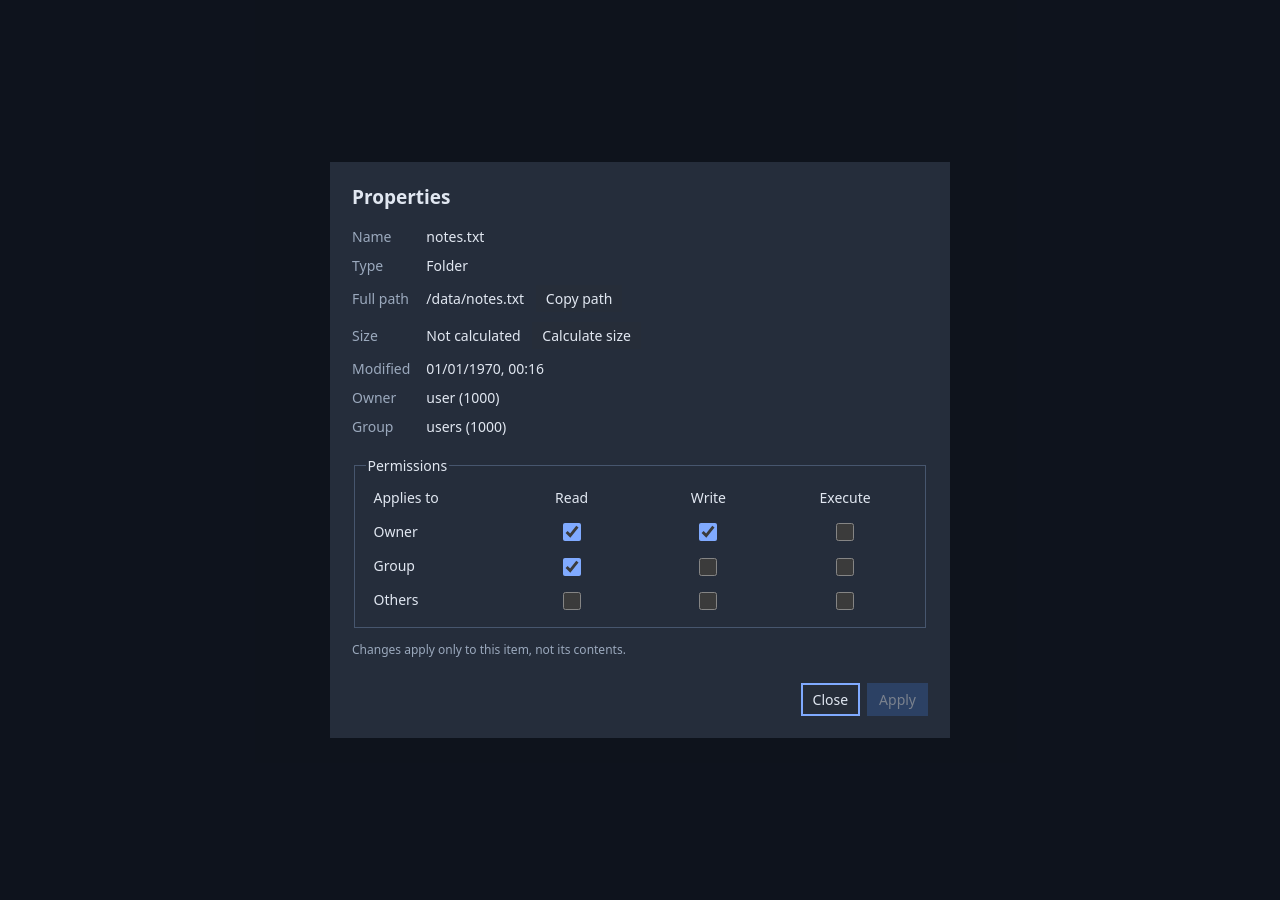
it: reports size errors without showing a partial result
Click the button "Calculate size". click: x=587, y=336
box: [532, 322, 641, 349]
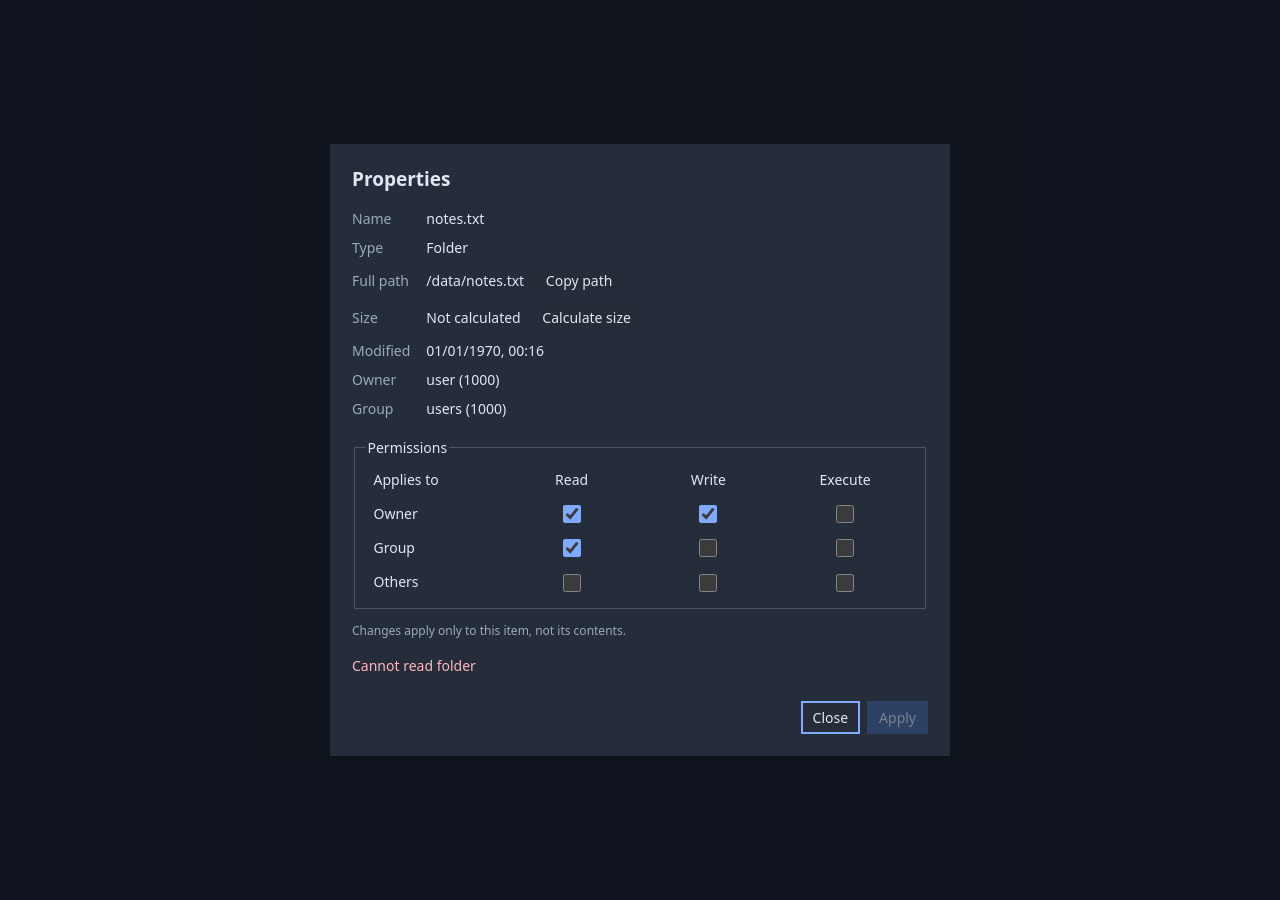
Expected: the text "Not calculated" is shown, [426, 308, 524, 327]
Now the message "Cannot read folder" is shown, box [352, 656, 476, 675]
